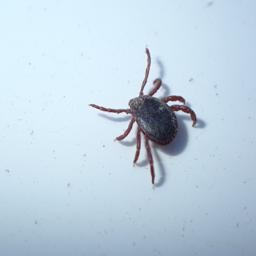Rhipicephalus sanguineus: (88, 48, 199, 186)
